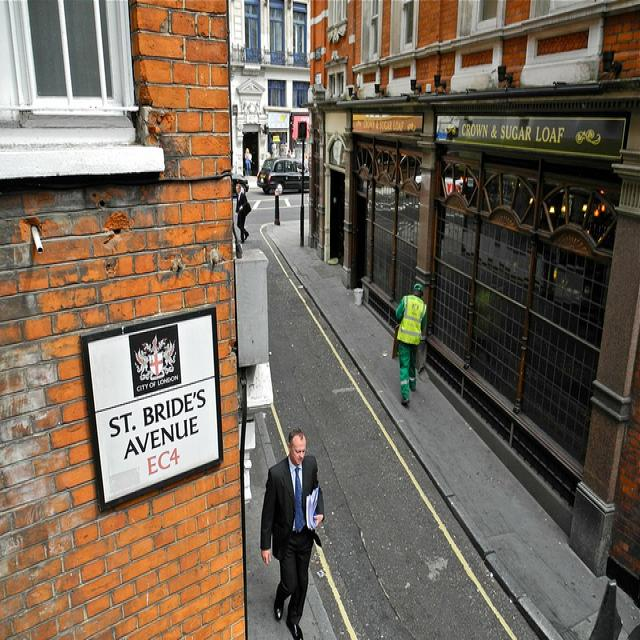Vehicle: (257, 158, 309, 195), (231, 173, 249, 193)
